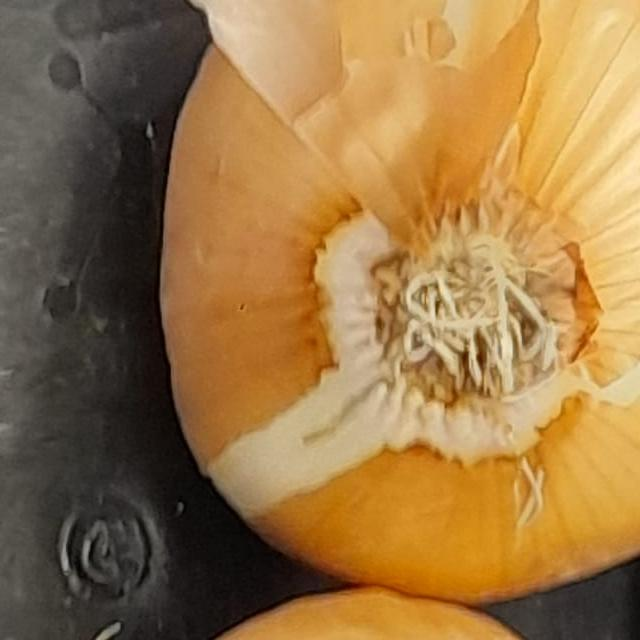onion: (106, 0, 640, 626)
